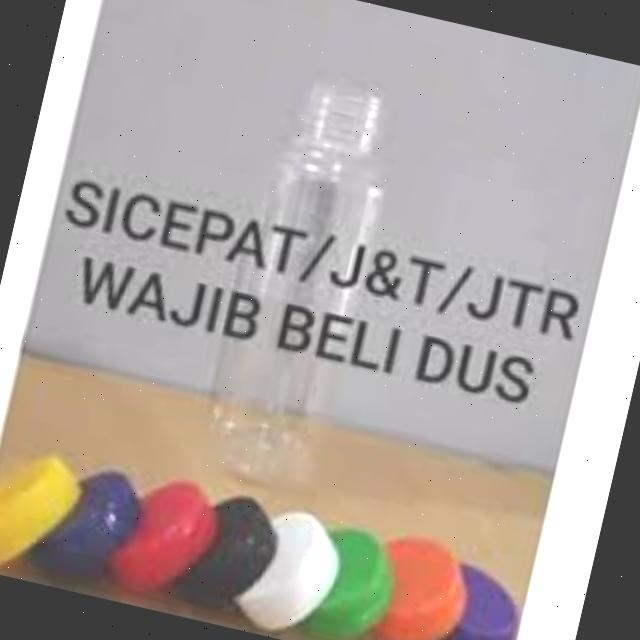trash: (184, 53, 422, 532)
